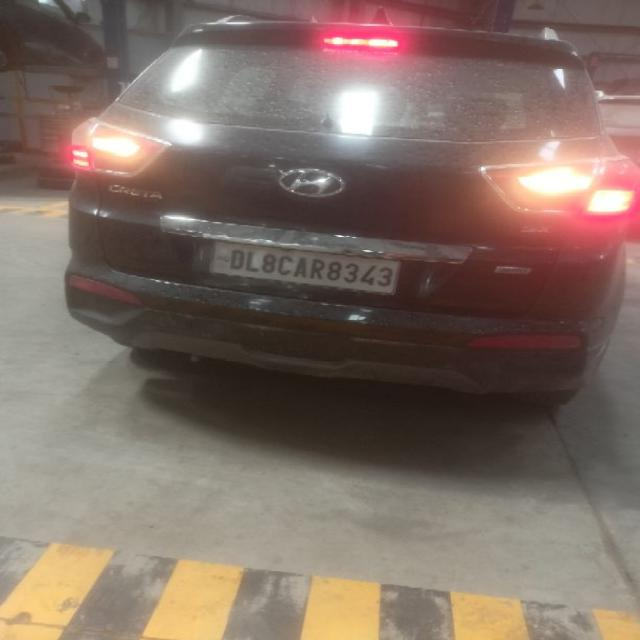license_plate: (206, 239, 402, 297)
